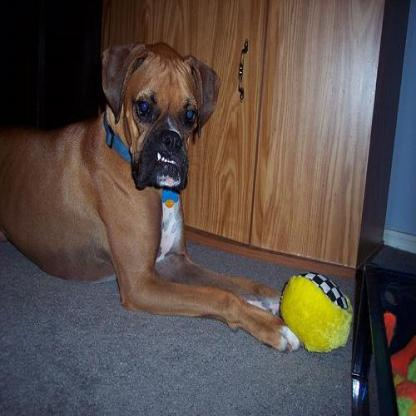boxer: (0, 40, 302, 348)
